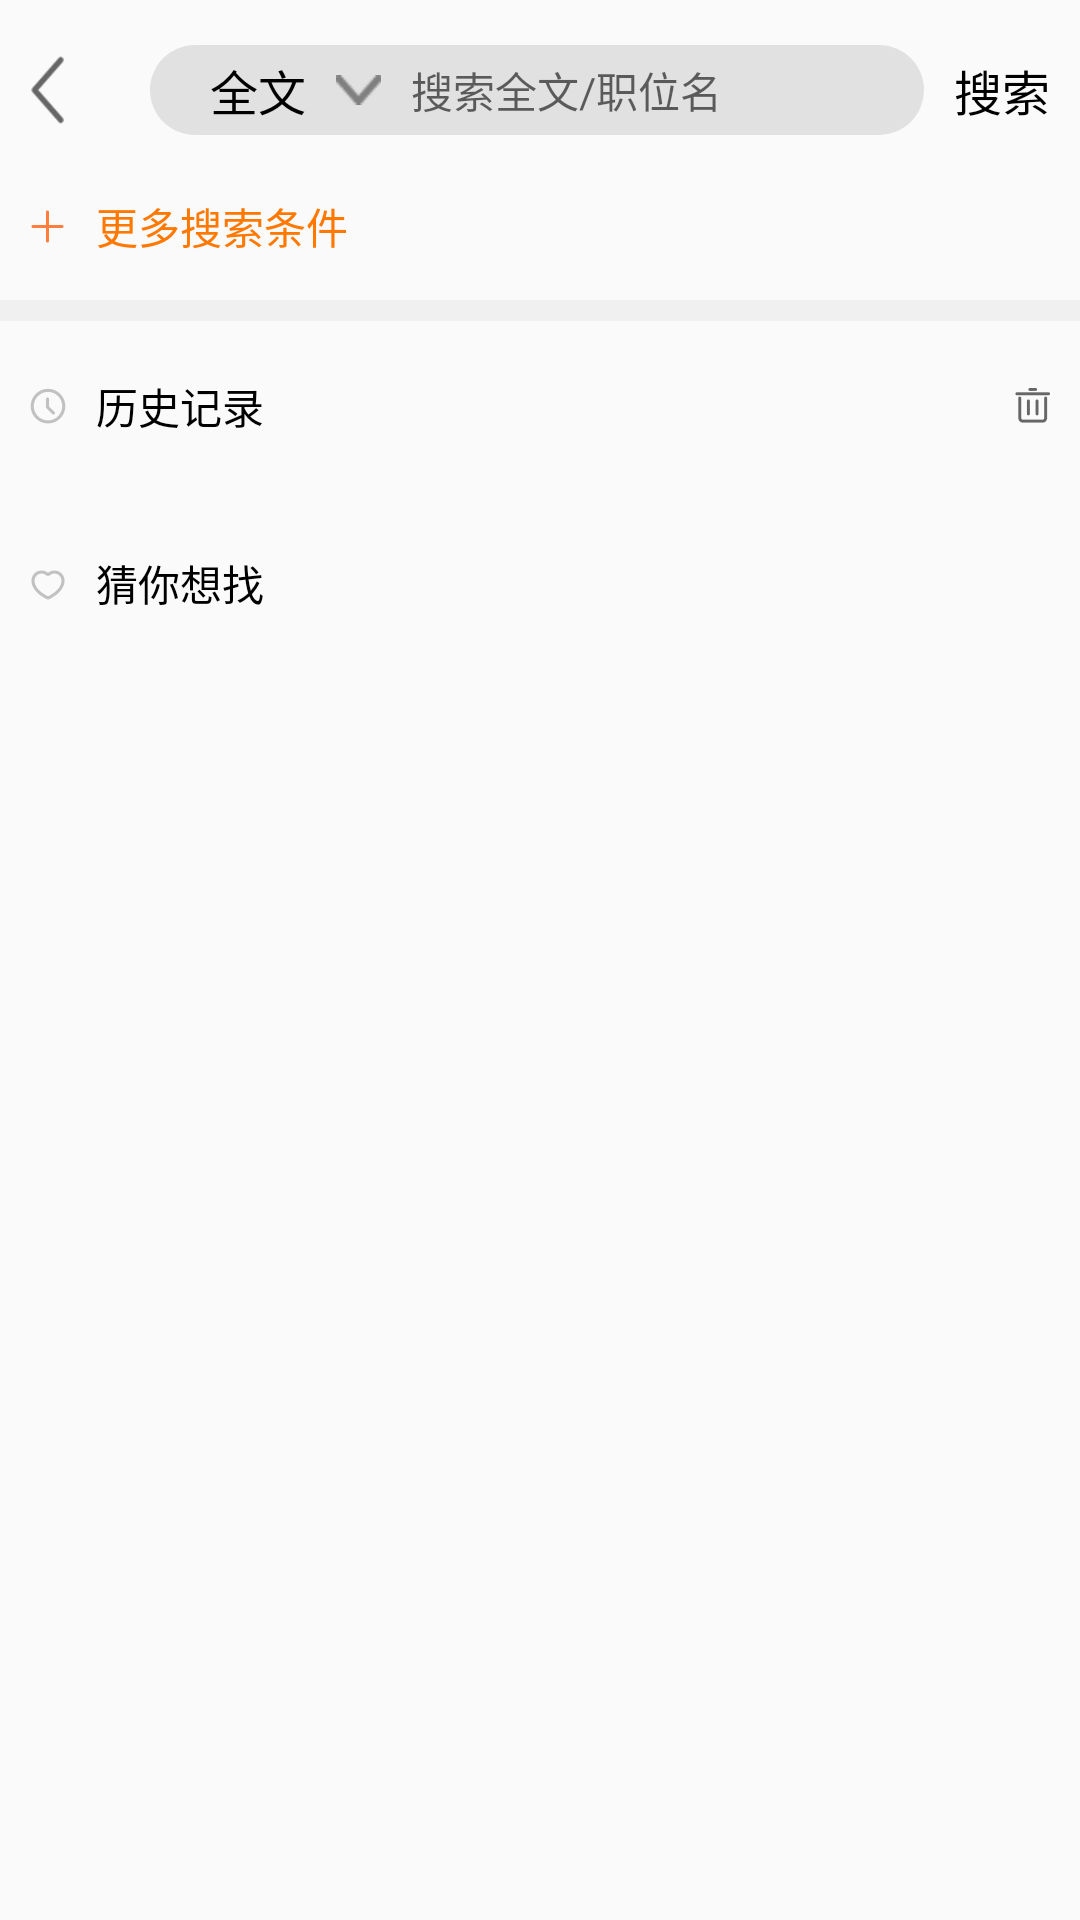

Named icons in this screenshot (1080x1920) and their bounding boxes, bbox(x1, y1, x2, y2):
arrow down: bbox(336, 75, 381, 105)
link delete: bbox(1015, 388, 1050, 423)
title back: bbox(31, 56, 64, 124)
